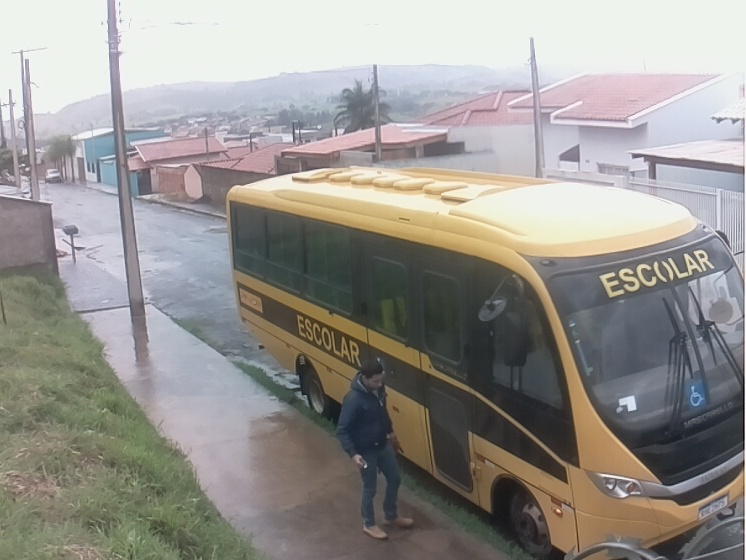person: (335, 358, 417, 540)
